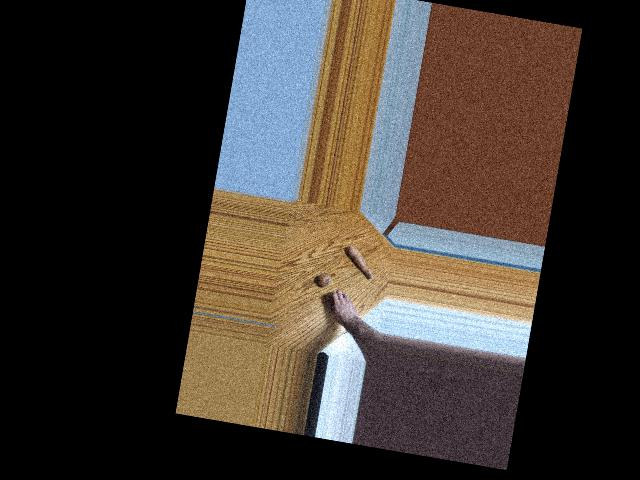onion: (324, 292, 342, 313)
